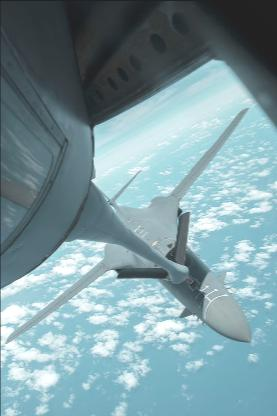AV8B: (4, 106, 252, 342)
